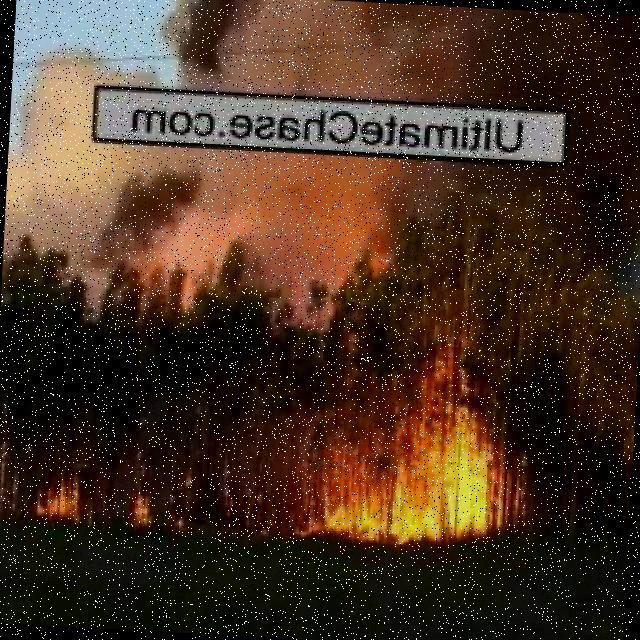Fire: (313, 408, 501, 547), (36, 467, 89, 519), (126, 493, 151, 534)
